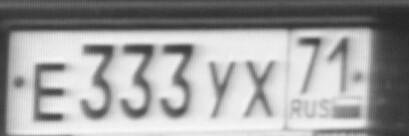license-plateSW: (8, 30, 375, 136)
